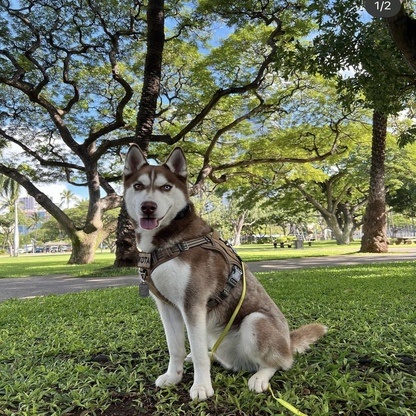husky: (112, 140, 333, 402)
